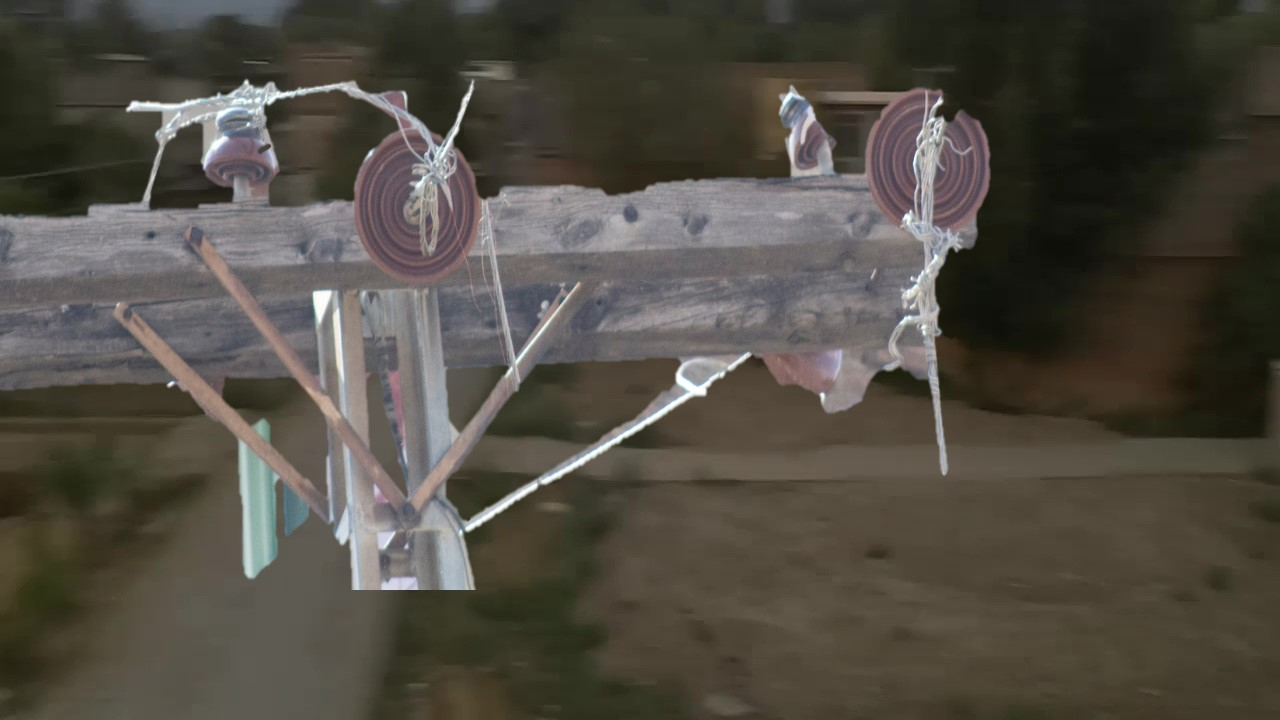defect_pin: (764, 85, 839, 175)
insulator_disc: (346, 117, 491, 284), (857, 82, 1002, 242)
insulator_pin: (191, 94, 281, 191)
